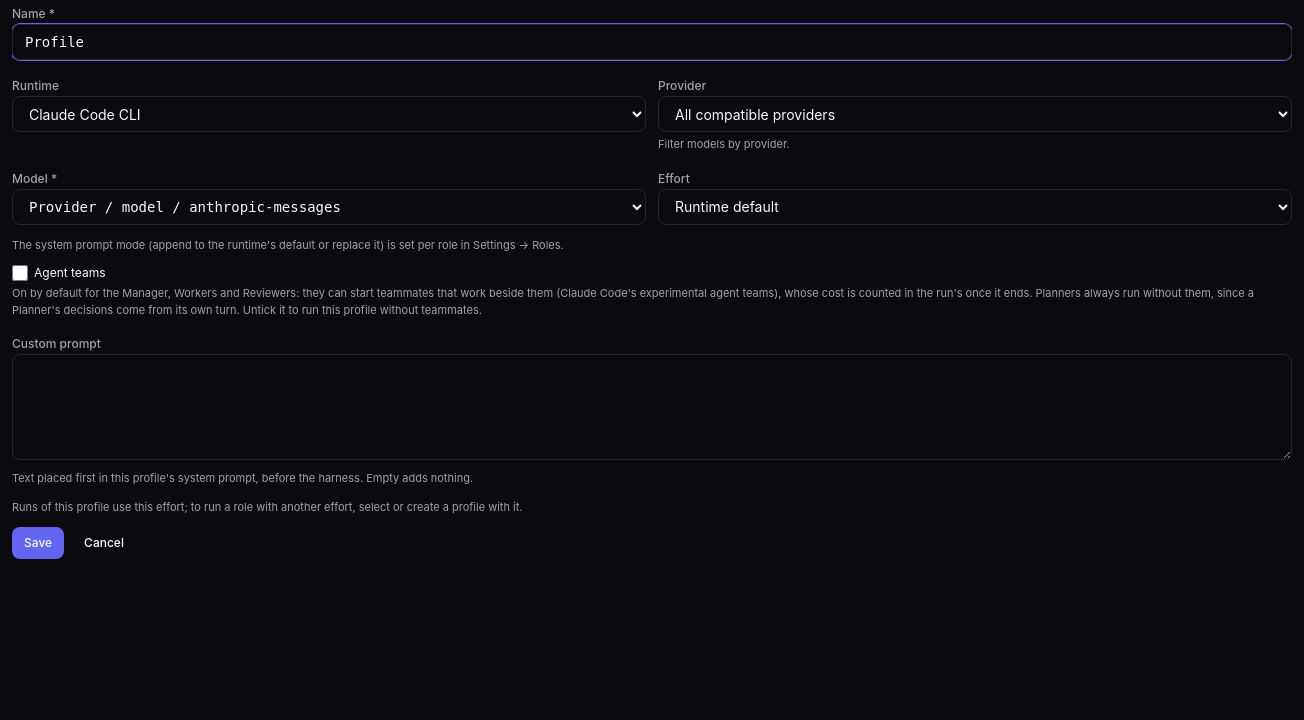
Agent Profiles › keeps a compatible selection and the saved teams preference across runtime changes
Expected: the label "Runtime" is shown, [12,78,59,93]
Select "stand-in" in the dropdown labelled "Runtime" at (329, 114), box [12,96,646,132]
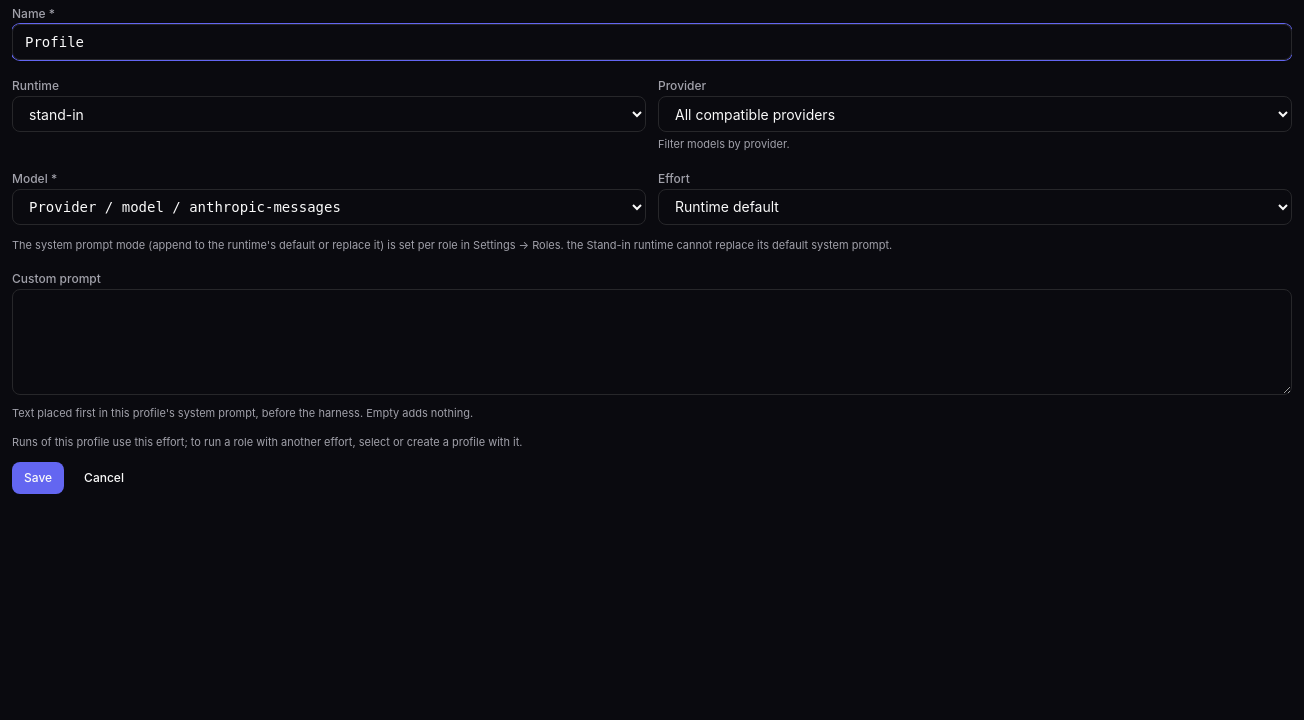
Expected: the label "Model *" is shown, [12,170,57,186]
Select "Claude Code CLI" in the dropdown labelled "Runtime" at (329, 114), box [12,96,646,132]
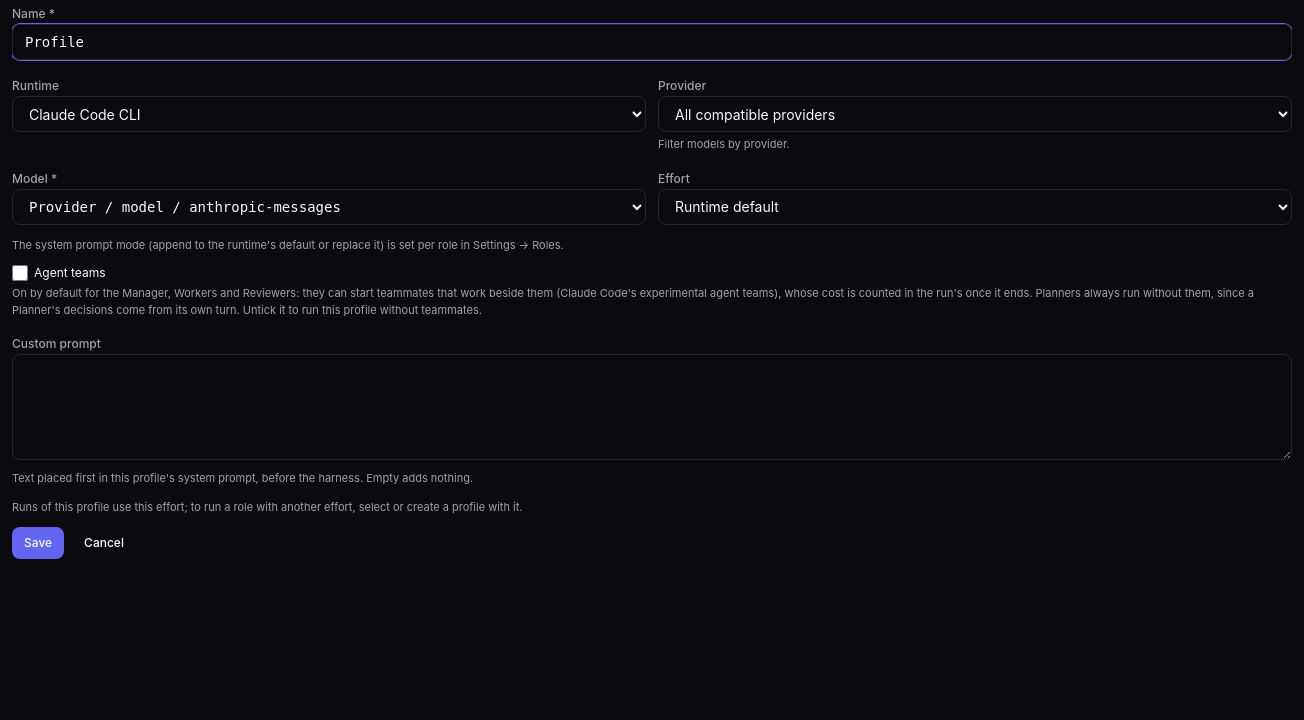
Result: the checkbox labelled "Agent teams" is not checked at [12,265,28,281]
